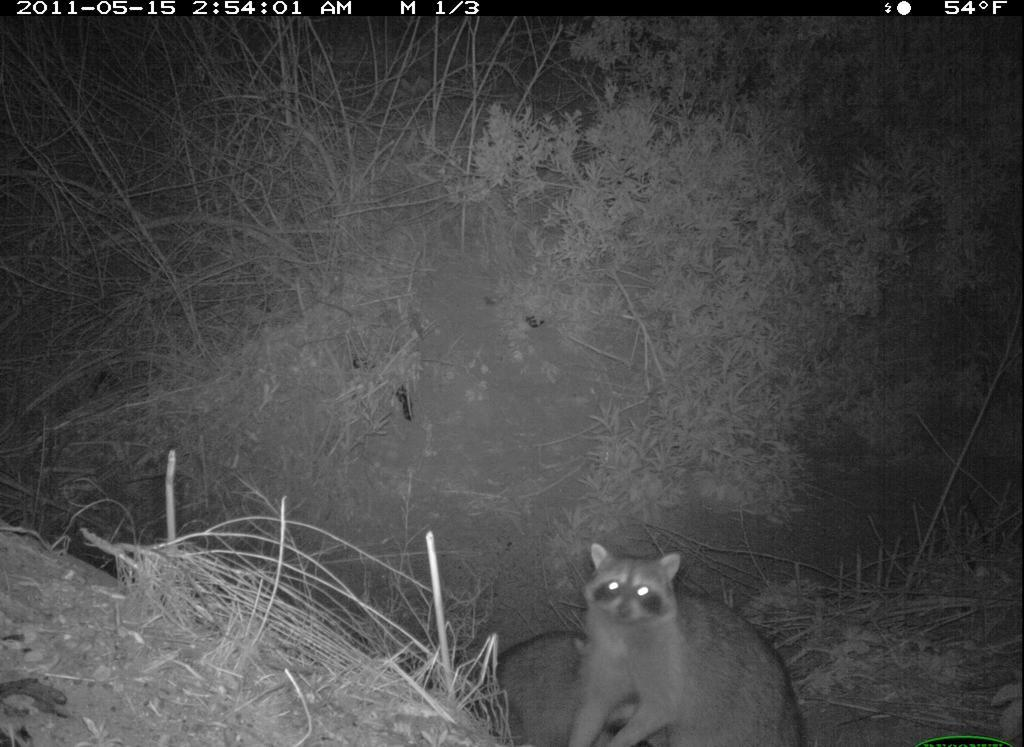raccoon: (565, 543, 794, 744)
